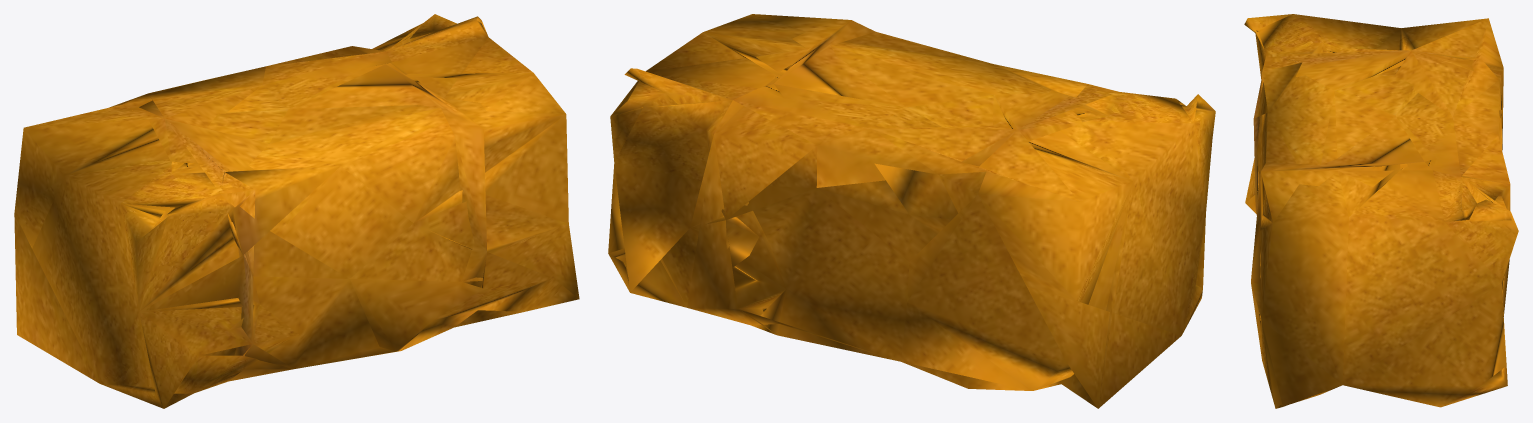
The model's file is balya.glb.
3 views of the same model, side by side, from view 1: azimuth 30°, elevation 25°; view 2: azimuth 150°, elevation 25°; view 3: azimuth 270°, elevation 25° (orthographic). The views are drawn at different scales.
Visible parts, largest first — view 1: tripo_node_ea14c45f-c632-436a-ba2e-195cc6ddfe58; view 2: tripo_node_ea14c45f-c632-436a-ba2e-195cc6ddfe58; view 3: tripo_node_ea14c45f-c632-436a-ba2e-195cc6ddfe58.
Boxes of the visible parts, bbox=[...] form: tripo_node_ea14c45f-c632-436a-ba2e-195cc6ddfe58: bbox=[14, 14, 579, 408]; tripo_node_ea14c45f-c632-436a-ba2e-195cc6ddfe58: bbox=[608, 14, 1215, 408]; tripo_node_ea14c45f-c632-436a-ba2e-195cc6ddfe58: bbox=[1244, 14, 1518, 408].
Size of the model in its own units: 0.9026 by 0.4124 by 0.4934.
Materials: 1 (1 with a texture image).
